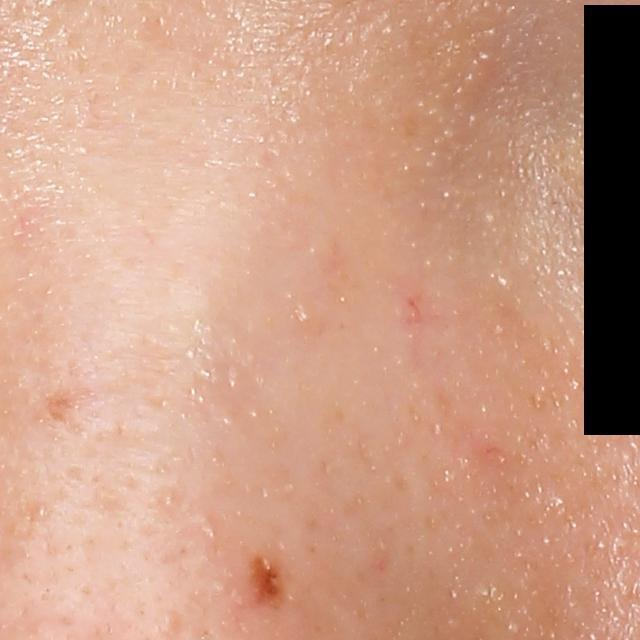comedo: (155, 608, 181, 640)
nevus: (246, 549, 288, 614)
